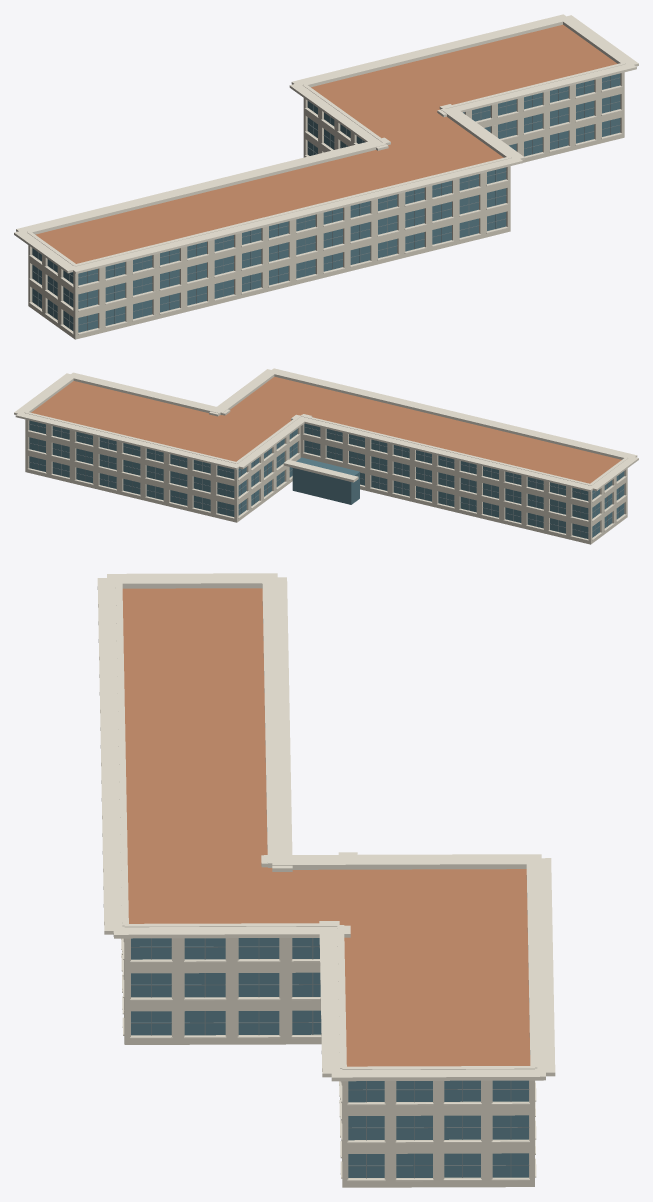
The model's file is pharma.glb.
3 renders of one model, top to bottom at view 1: azimuth 30°, elevation 25°; view 2: azimuth 150°, elevation 25°; view 3: azimuth 270°, elevation 25°, orthographic. The views are drawn at different scales.
Parts seen in each view (by area): view 1: roof, wall, trim, glass, metal; view 2: roof, wall, glass, trim, metal; view 3: roof, trim, glass, wall, metal.
Boxes of the visible parts, left/top/right/bottom form: roof: left=35, top=24, right=617, bottom=263; wall: left=28, top=72, right=624, bottom=339; trim: left=14, top=14, right=638, bottom=334; glass: left=32, top=73, right=620, bottom=332; metal: left=32, top=76, right=620, bottom=330; roof: left=31, top=376, right=621, bottom=483; wall: left=25, top=419, right=627, bottom=544; glass: left=29, top=420, right=624, bottom=538; trim: left=14, top=368, right=638, bottom=540; metal: left=29, top=423, right=624, bottom=536; roof: left=122, top=588, right=530, bottom=1066; trim: left=97, top=573, right=555, bottom=1181; glass: left=131, top=938, right=528, bottom=1177; wall: left=123, top=938, right=534, bottom=1187; metal: left=131, top=938, right=529, bottom=1178.
Bounding box in the file's own units: 88.32 × 9.74 × 33.87.
